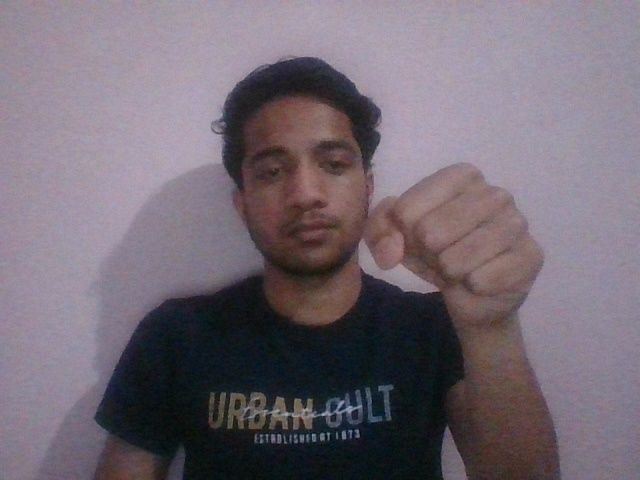yes: (362, 155, 545, 318)
